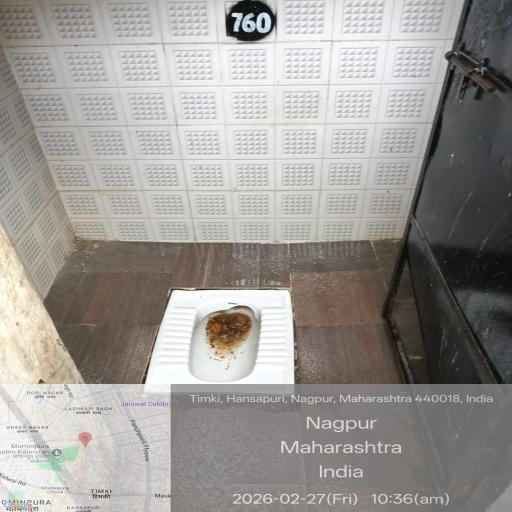clean_floor: (23, 21, 478, 237)
dirty_indian: (148, 274, 321, 444)
